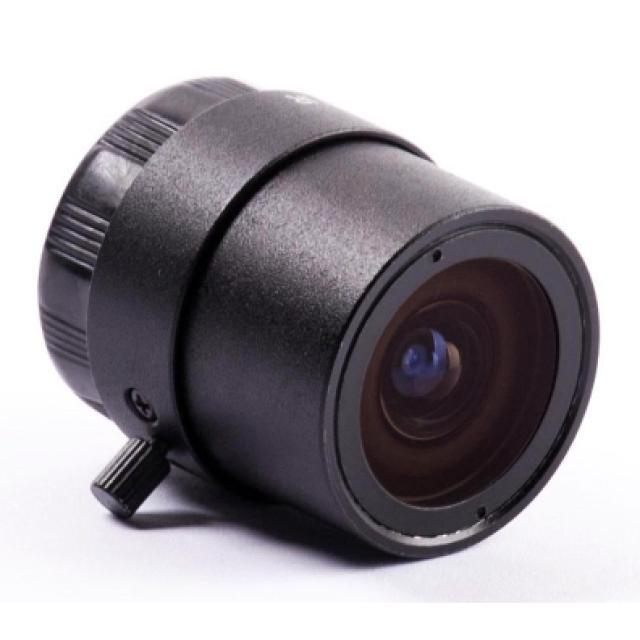hidden camera: (309, 205, 608, 568)
